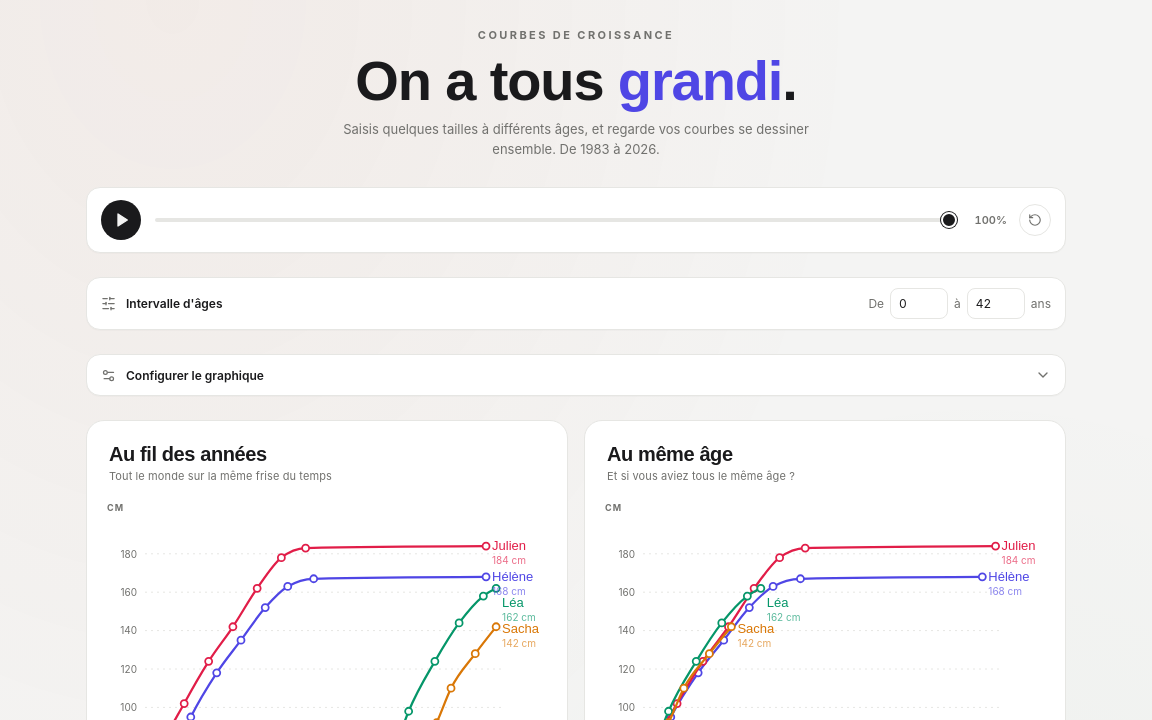
Test: App › age range filter › keeps the max above the min when narrowing
Replace the text in the number field named "Âge maximum" with "10" at point(996, 304), box [967,288,1025,319]
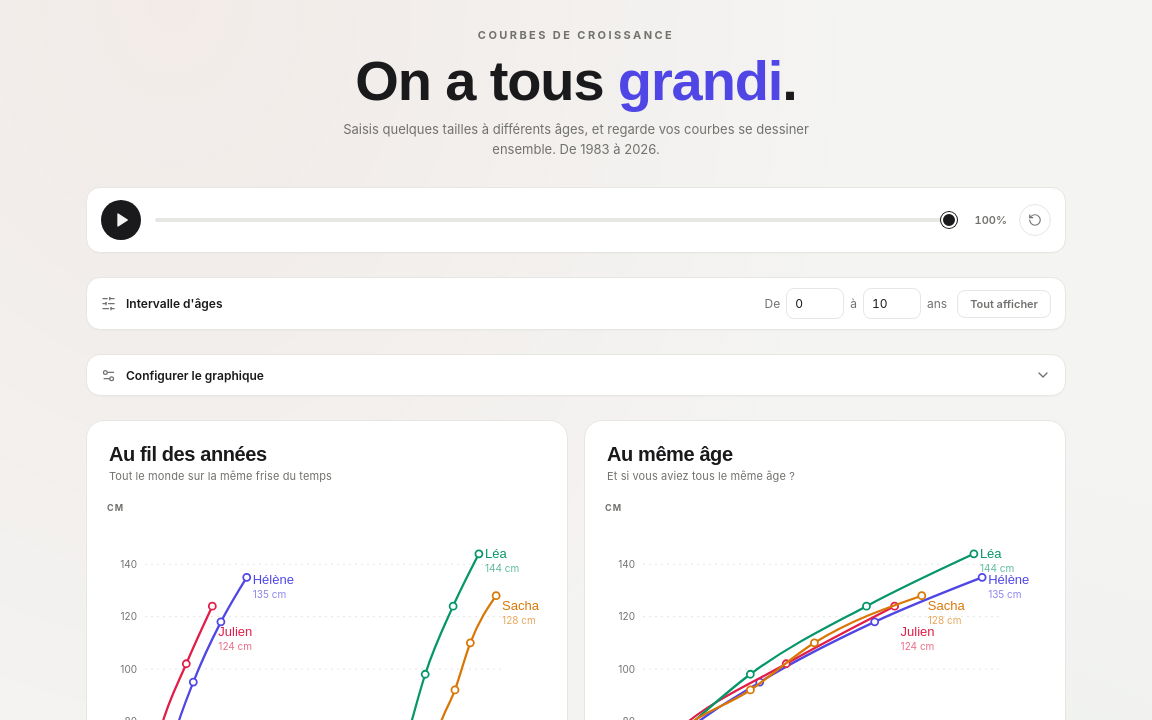
Asking for a min beyond the max clamps it to the max.
Replace the text in the number field named "Âge minimum" with "50" at point(815, 304), box [786,288,844,319]
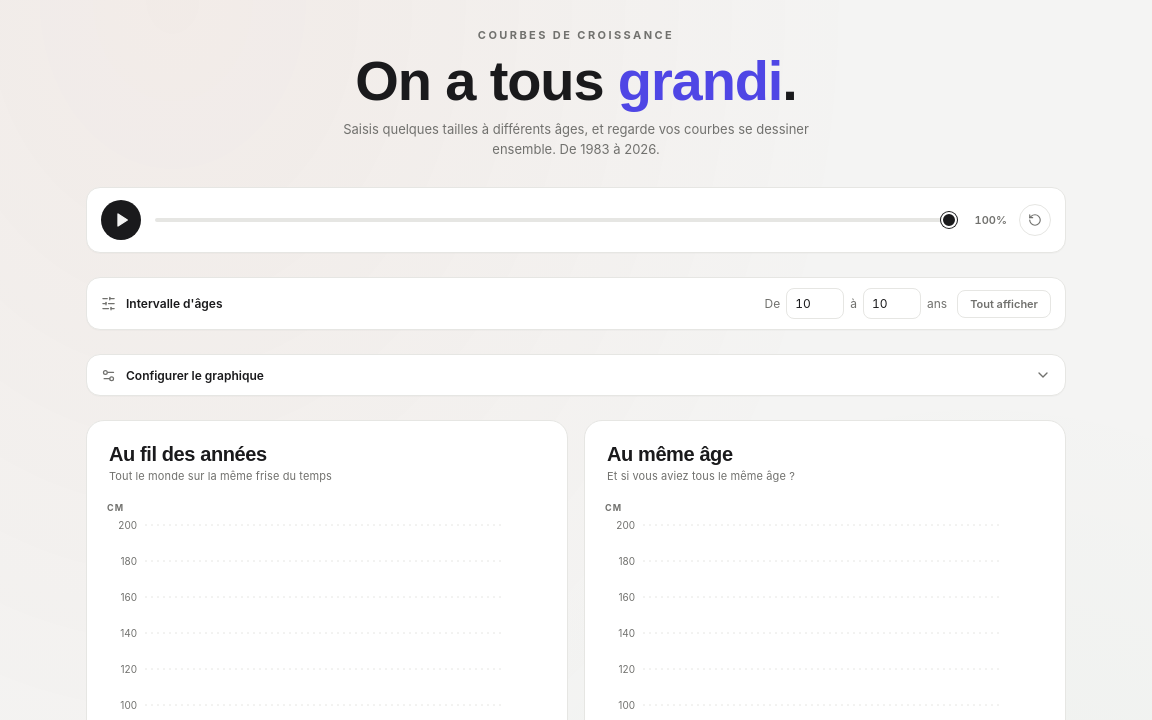
Expected: the number field named "Âge minimum" holds "10", [786,288,844,319]
